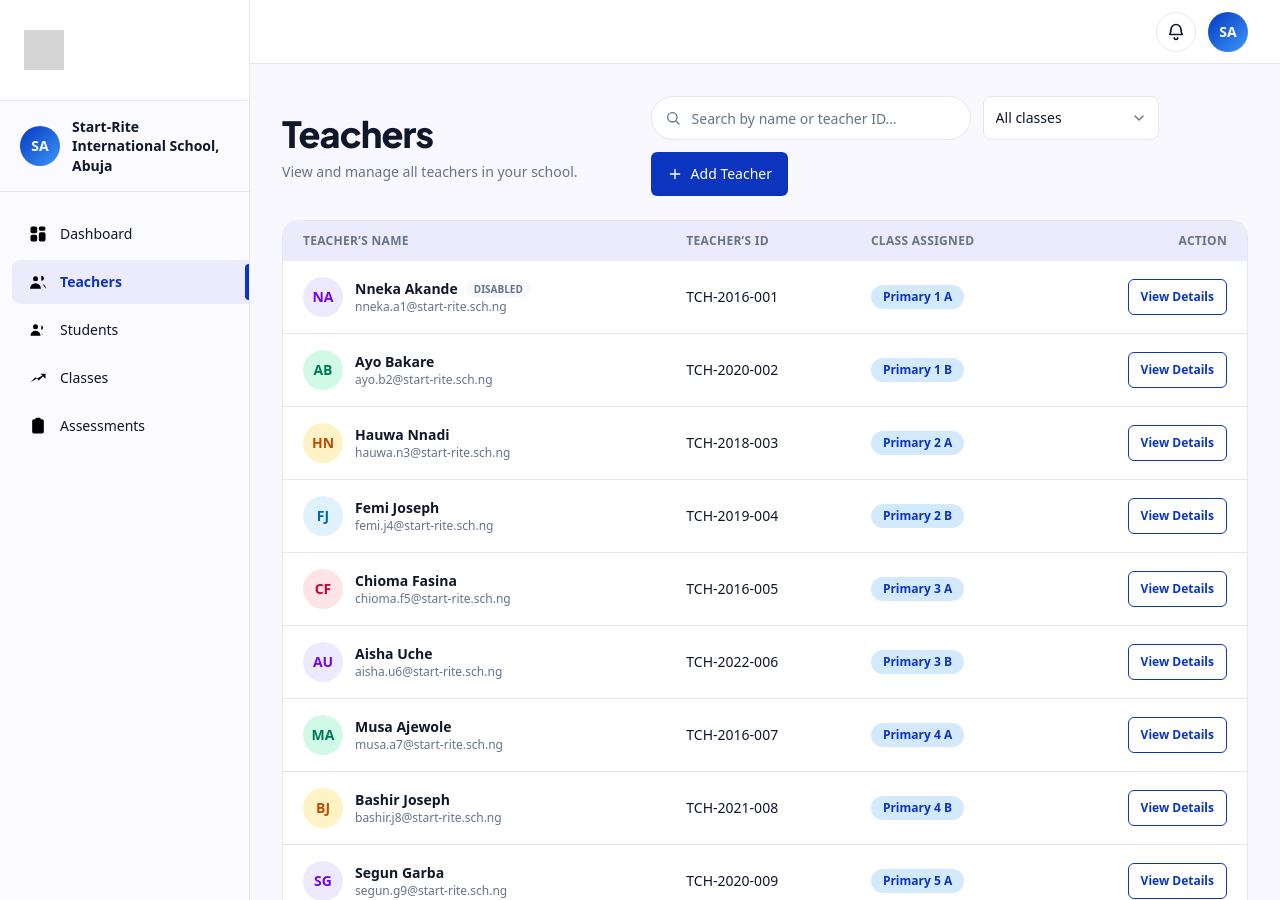
Test case: TeachersPage › shows an empty state for a query with no matches
Step 1. Type "no-such-teacher" into the search field named "Search teachers" → (811, 118), box 651,96 -> 971,140
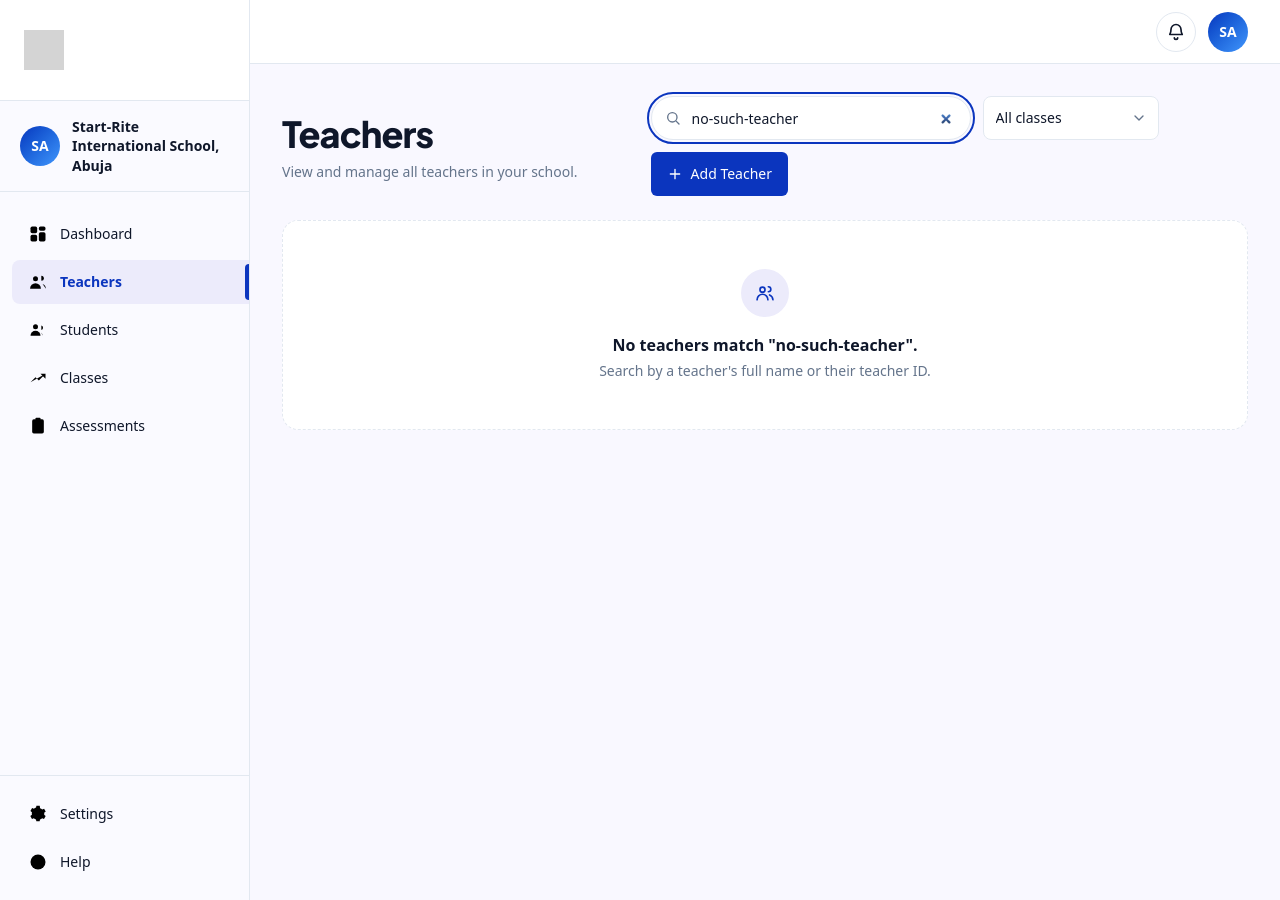
expect the text "No teachers match \"no-such-teacher\"." is shown: met, box 612,333 -> 918,357
